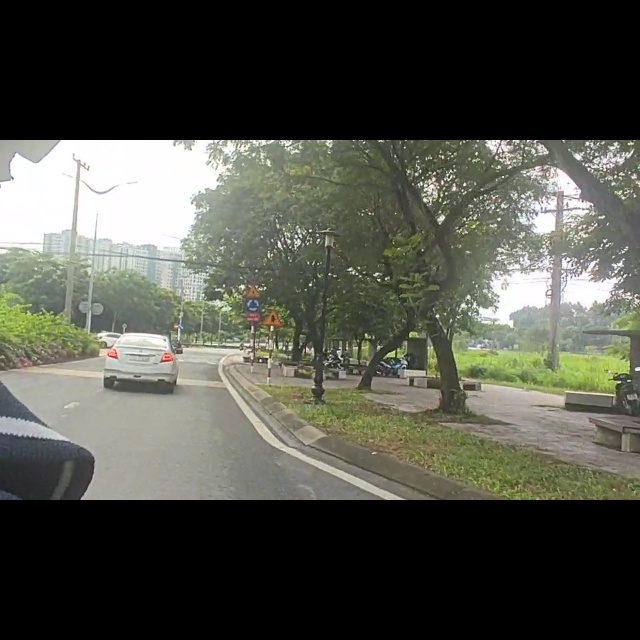bien_hieu_lenh: (263, 300, 283, 332), (243, 282, 263, 308), (244, 258, 262, 282), (179, 327, 187, 341), (173, 325, 179, 337)
